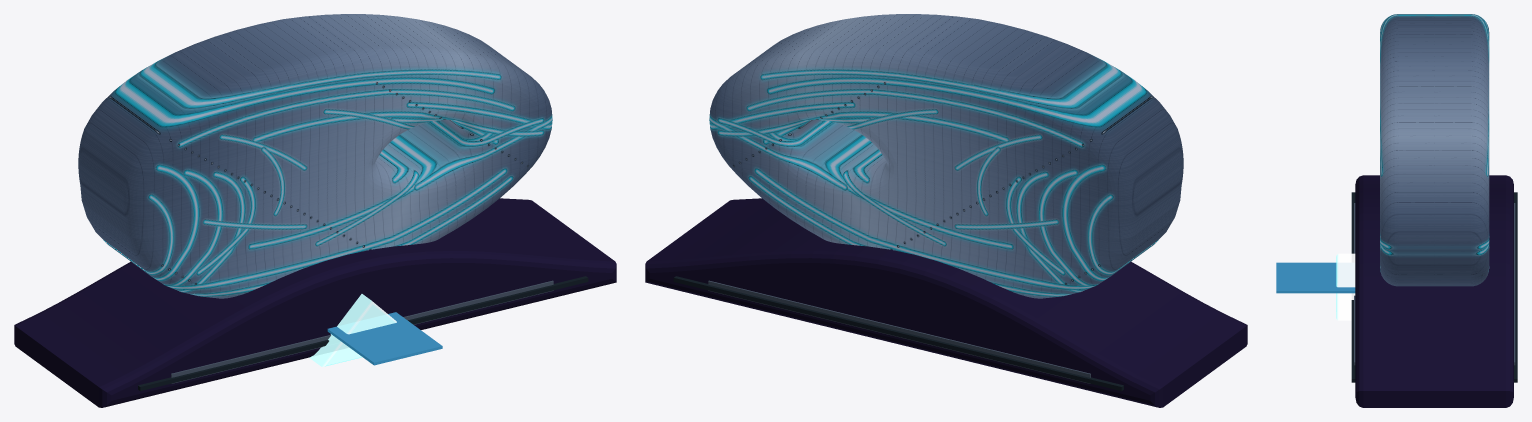
Rendered from museum-of-the-future-v2.glb.
The picture shows the model from 3 angles, left to right: view 1: azimuth 30°, elevation 25°; view 2: azimuth 150°, elevation 25°; view 3: azimuth 270°, elevation 25°; orthographic projection. The views are drawn at different scales.
Size of the model in its own units: 19.6 by 10.96 by 9.3.
Materials: 12 (1 with a texture image).
